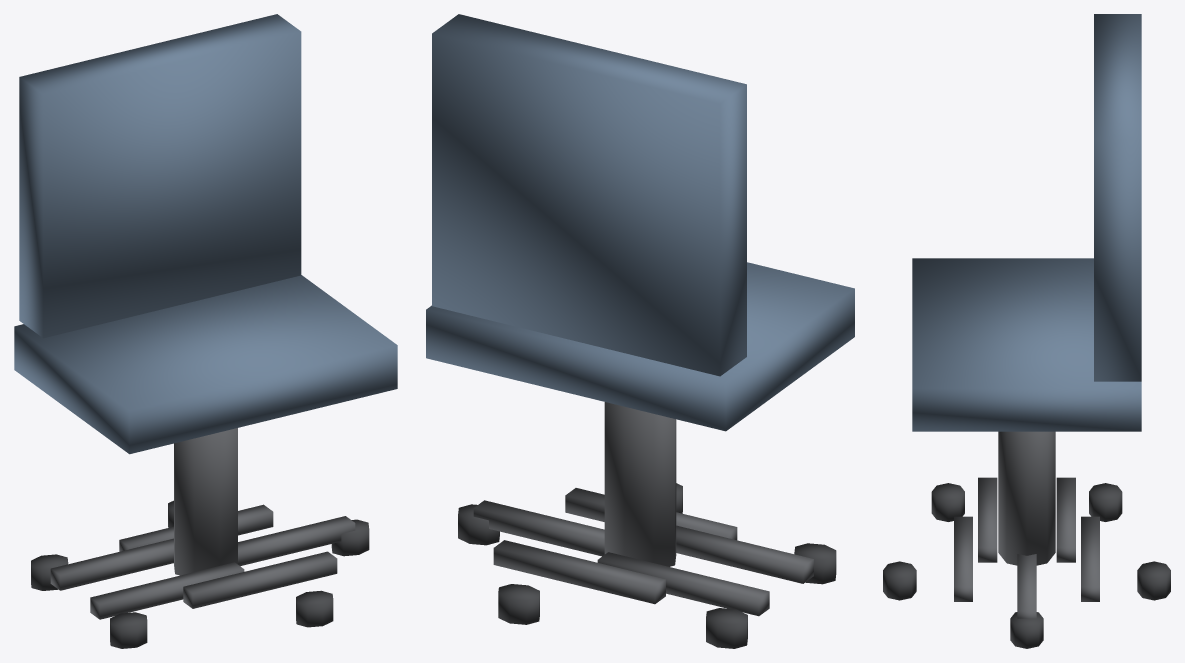
Rendered from office_task_chair__wide.glb.
3 views of the same model, side by side, from view 1: azimuth 30°, elevation 25°; view 2: azimuth 150°, elevation 25°; view 3: azimuth 270°, elevation 25° (orthographic). The views are drawn at different scales.
Visible parts, largest first — view 1: world; view 2: world; view 3: world.
Part boxes in pixels (x1,y1,x2,y2): world: (14, 14, 397, 648); world: (426, 14, 854, 648); world: (883, 14, 1170, 648).
Size of the model in its own units: 0.7149 by 1.14 by 0.6026.
